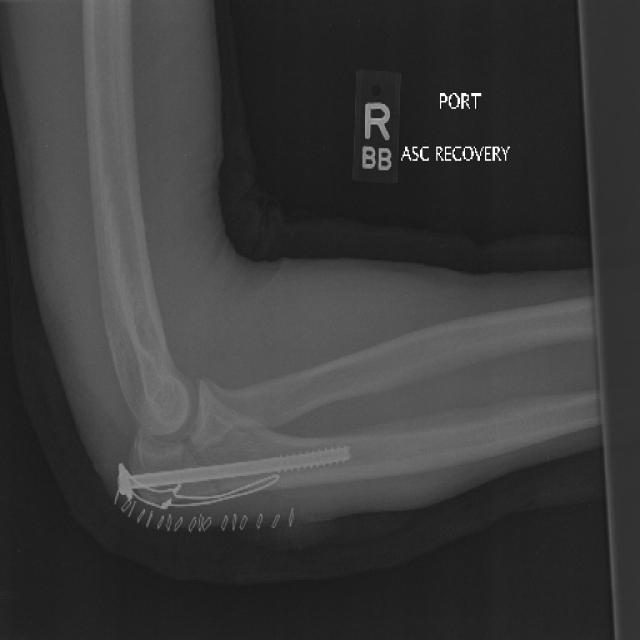elbow positive: (158, 406, 264, 538)
